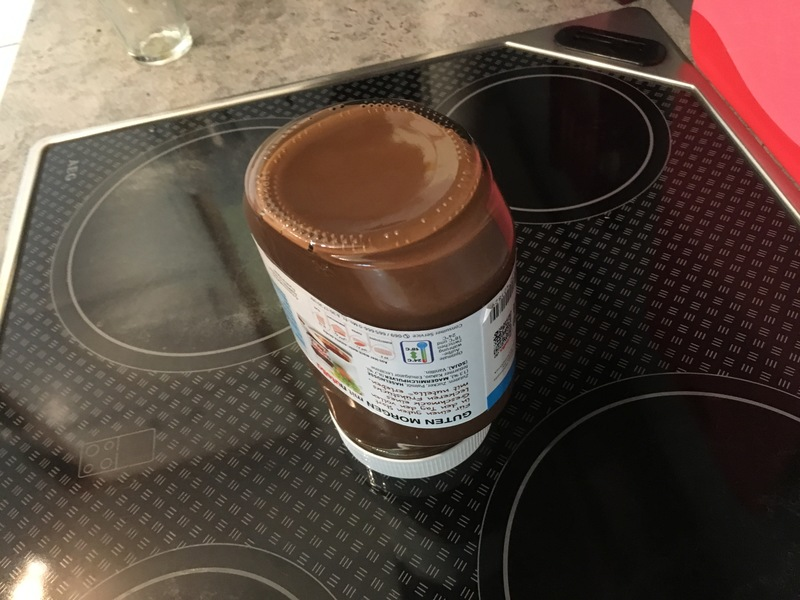nutella: (242, 98, 518, 478)
